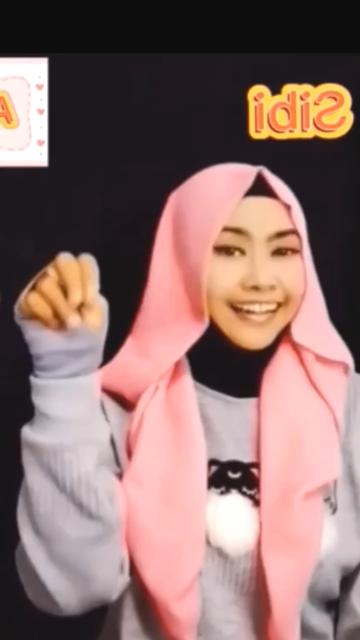N: (13, 244, 113, 370)
